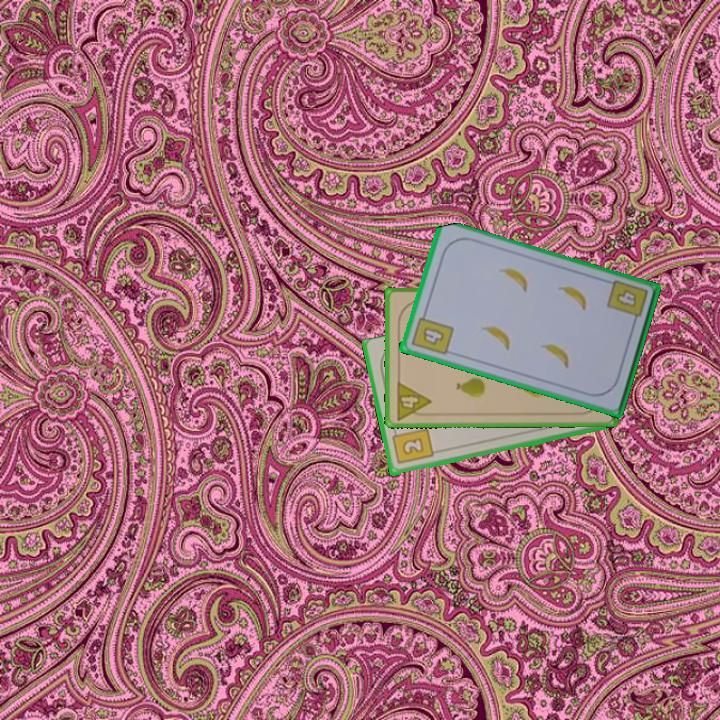2b: (388, 425, 436, 467)
4b: (407, 308, 456, 358), (612, 286, 639, 310)
4p: (392, 378, 434, 423)
